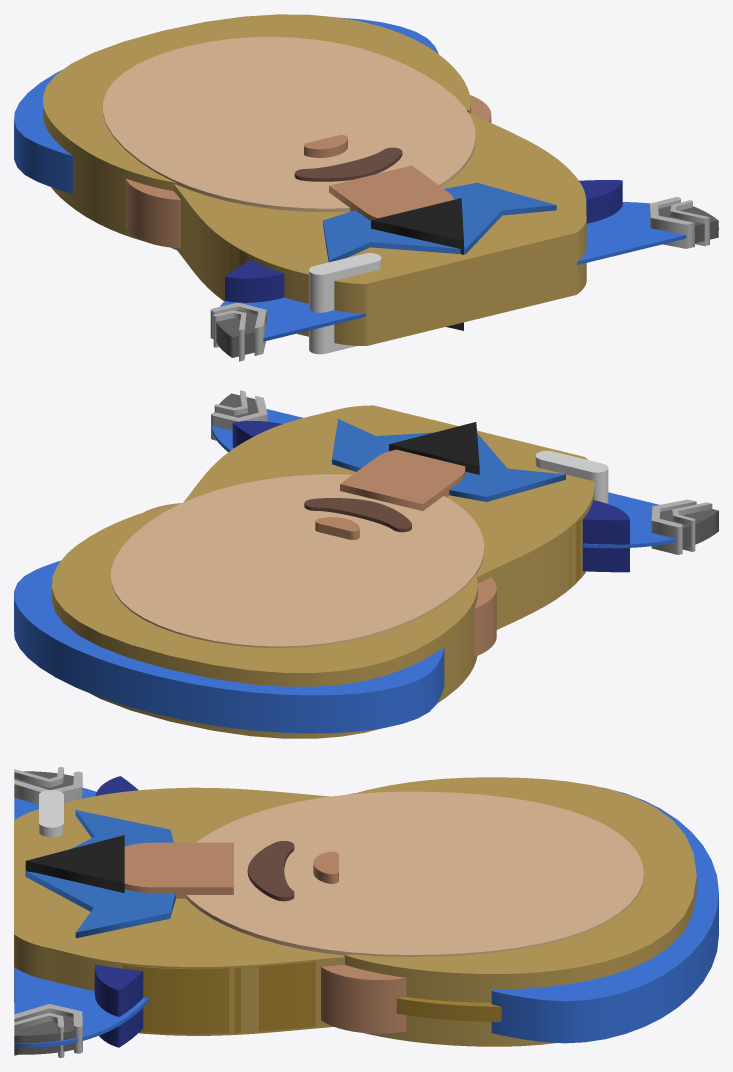
Rendered from emoji_u1f46e_1f3fc_200d_2640.glb.
3 renders of one model, top to bottom at view 1: azimuth 30°, elevation 25°; view 2: azimuth 150°, elevation 25°; view 3: azimuth 270°, elevation 25°, orthographic. The views are drawn at different scales.
Visible parts, largest first — view 1: emoji_u1f46e_1f3fc_200d_2640; view 2: emoji_u1f46e_1f3fc_200d_2640; view 3: emoji_u1f46e_1f3fc_200d_2640.
Boxes of the visible parts, x1,y1,x2,y2 form: emoji_u1f46e_1f3fc_200d_2640: (14,14,718,361); emoji_u1f46e_1f3fc_200d_2640: (14,390,718,738); emoji_u1f46e_1f3fc_200d_2640: (14,767,718,1057).
Bounding box in the file's own units: 0.0295 × 0.0052 × 0.0334.
